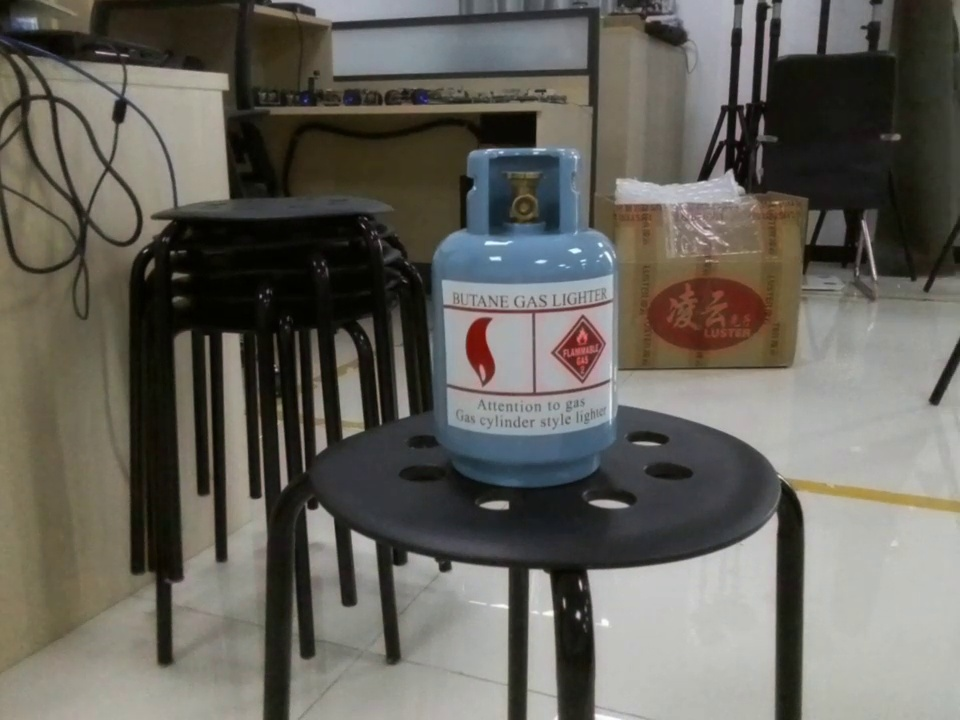gas tank: (430, 142, 636, 490)
